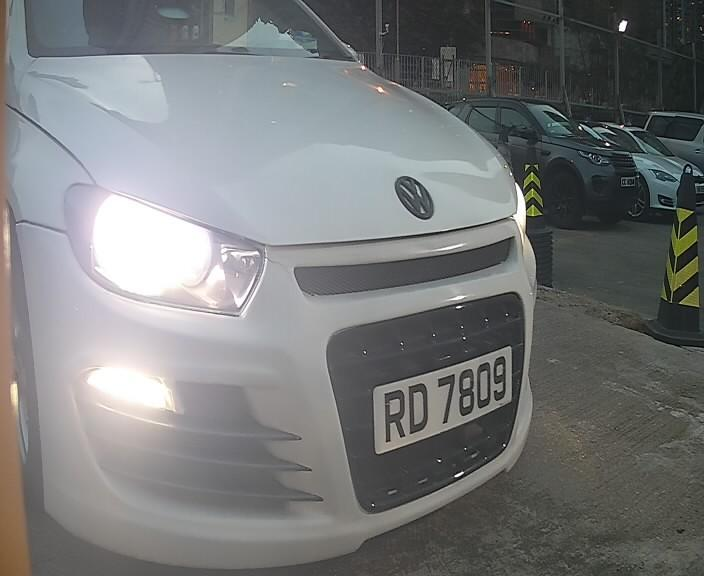privatecar: (29, 16, 544, 546)
